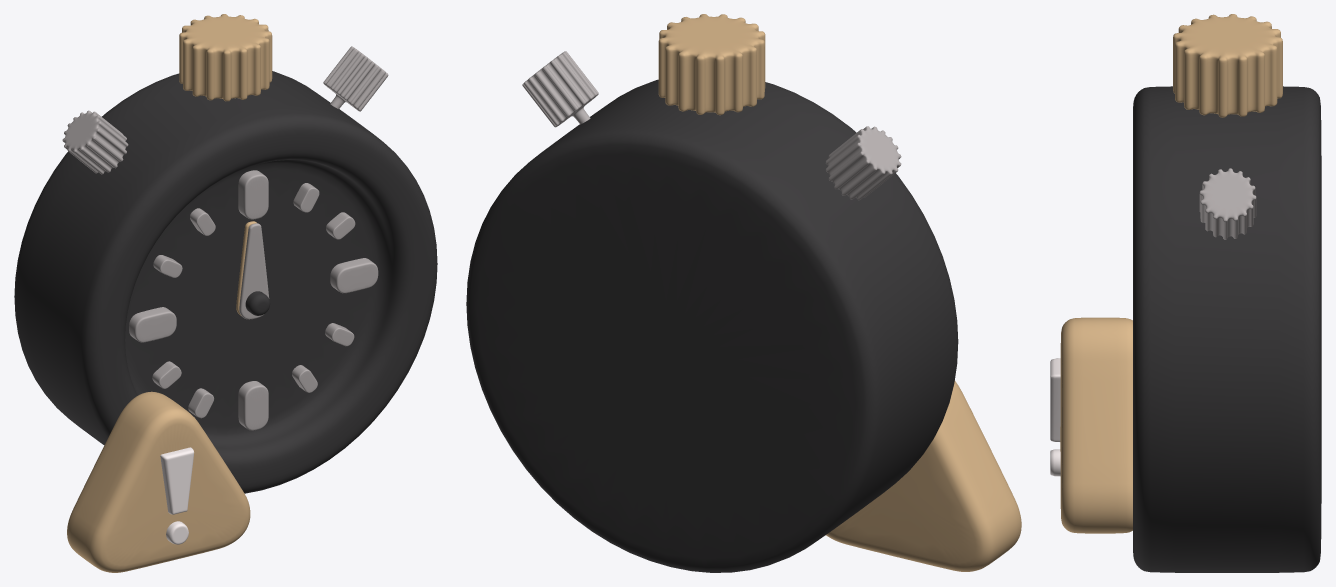
The model's file is overdue-animated-3d-icon-1141843679763.glb.
3 views of the same model, side by side, from view 1: azimuth 30°, elevation 25°; view 2: azimuth 150°, elevation 25°; view 3: azimuth 270°, elevation 25° (orthographic). The views are drawn at different scales.
Visible parts, largest first — view 1: Base.004, Base.006, Button 1.004, Numbers A.004, Button 2.002, Numbers B.004, Caution Icon, Minute Pin.007; view 2: Base.004, Base.006, Button 1.004, Button 2.002; view 3: Base.004, Base.006, Button 1.004, Button 2.002, Caution Icon.
Boxes of the visible parts, x1=… form: Base.004: x1=14, y1=71, x2=437, y2=493; Base.006: x1=67, y1=391, x2=250, y2=572; Button 1.004: x1=179, y1=14, x2=272, y2=101; Numbers A.004: x1=129, y1=170, x2=378, y2=430; Button 2.002: x1=62, y1=46, x2=388, y2=174; Numbers B.004: x1=152, y1=183, x2=355, y2=418; Caution Icon: x1=160, y1=447, x2=194, y2=544; Minute Pin.007: x1=239, y1=223, x2=269, y2=319; Base.004: x1=466, y1=79, x2=958, y2=572; Base.006: x1=826, y1=380, x2=1021, y2=571; Button 1.004: x1=658, y1=14, x2=765, y2=115; Button 2.002: x1=522, y1=51, x2=901, y2=199; Base.004: x1=1133, y1=86, x2=1321, y2=572; Base.006: x1=1060, y1=317, x2=1132, y2=533; Button 1.004: x1=1173, y1=14, x2=1282, y2=117; Button 2.002: x1=1199, y1=168, x2=1256, y2=239; Caution Icon: x1=1050, y1=358, x2=1060, y2=476.
Bounding box in the file's own units: 2.12 × 2.41 × 1.11.
